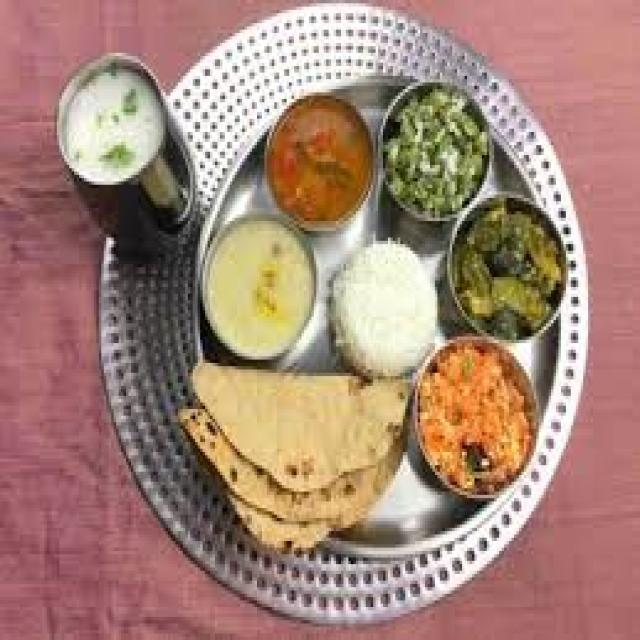curd: (51, 51, 178, 198)
dal: (198, 205, 322, 366)
papad: (182, 348, 412, 530)
raita: (52, 57, 180, 197)
rice: (325, 231, 446, 378)
sambar-rasam: (253, 84, 384, 231)
veg-fry: (402, 336, 548, 506), (451, 197, 563, 338)
